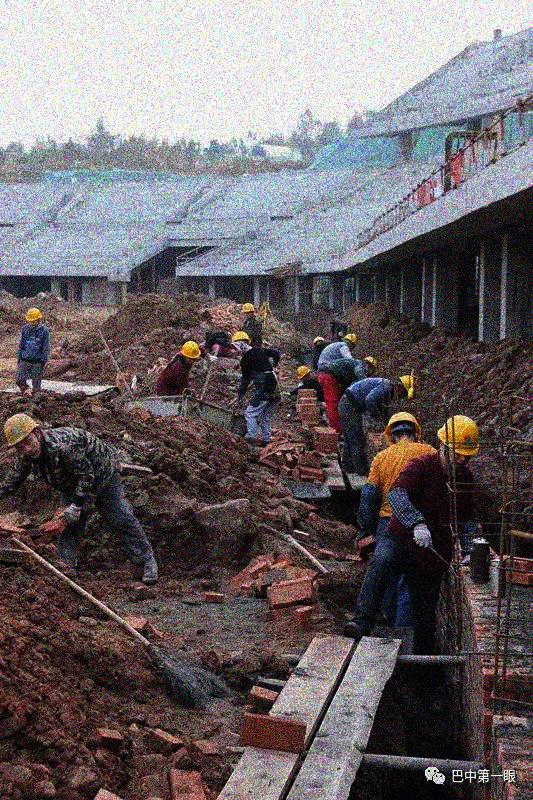helmet: (435, 415, 482, 468), (3, 410, 44, 462), (384, 410, 423, 445), (392, 375, 418, 400), (180, 340, 202, 365), (362, 354, 379, 377), (25, 307, 43, 328), (232, 331, 250, 349), (341, 331, 358, 349), (296, 363, 313, 381), (240, 302, 256, 319), (312, 335, 326, 346)
